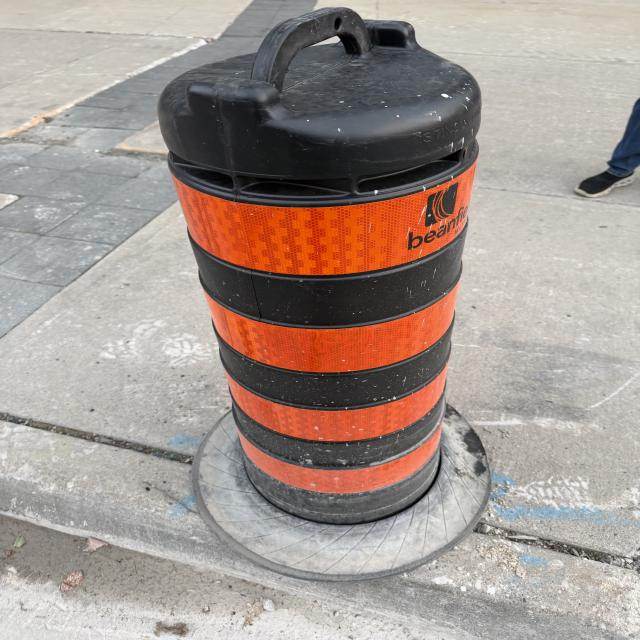Teraffic Barrel: (158, 8, 480, 524)
